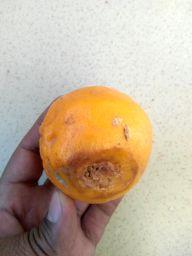Unripe: (39, 90, 153, 205)
